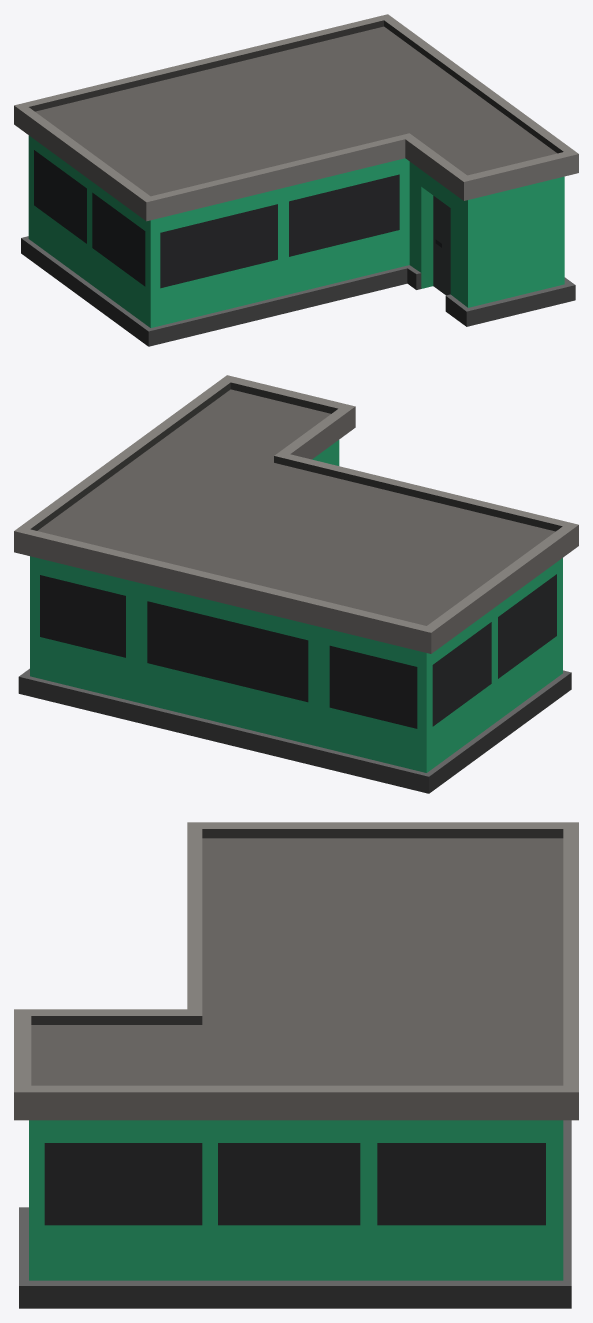
File: Small Building 1.fbx
The picture shows the model from 3 angles, top to bottom: view 1: azimuth 30°, elevation 25°; view 2: azimuth 150°, elevation 25°; view 3: azimuth 270°, elevation 25°; orthographic projection. The views are drawn at different scales.
Parts seen in each view (by area): view 1: Airport_Building_Small01; view 2: Airport_Building_Small01; view 3: Airport_Building_Small01.
Boxes of the visible parts, x1,y1,x2,y2 form: Airport_Building_Small01: (14, 14, 578, 346); Airport_Building_Small01: (14, 375, 578, 793); Airport_Building_Small01: (14, 822, 578, 1308).
Size of the model in its own units: 1433 by 539 by 1268.
